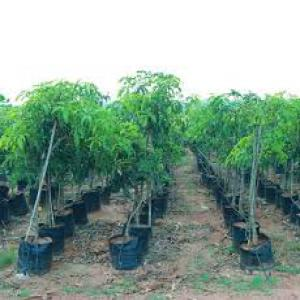Tree: (14, 70, 291, 278)
